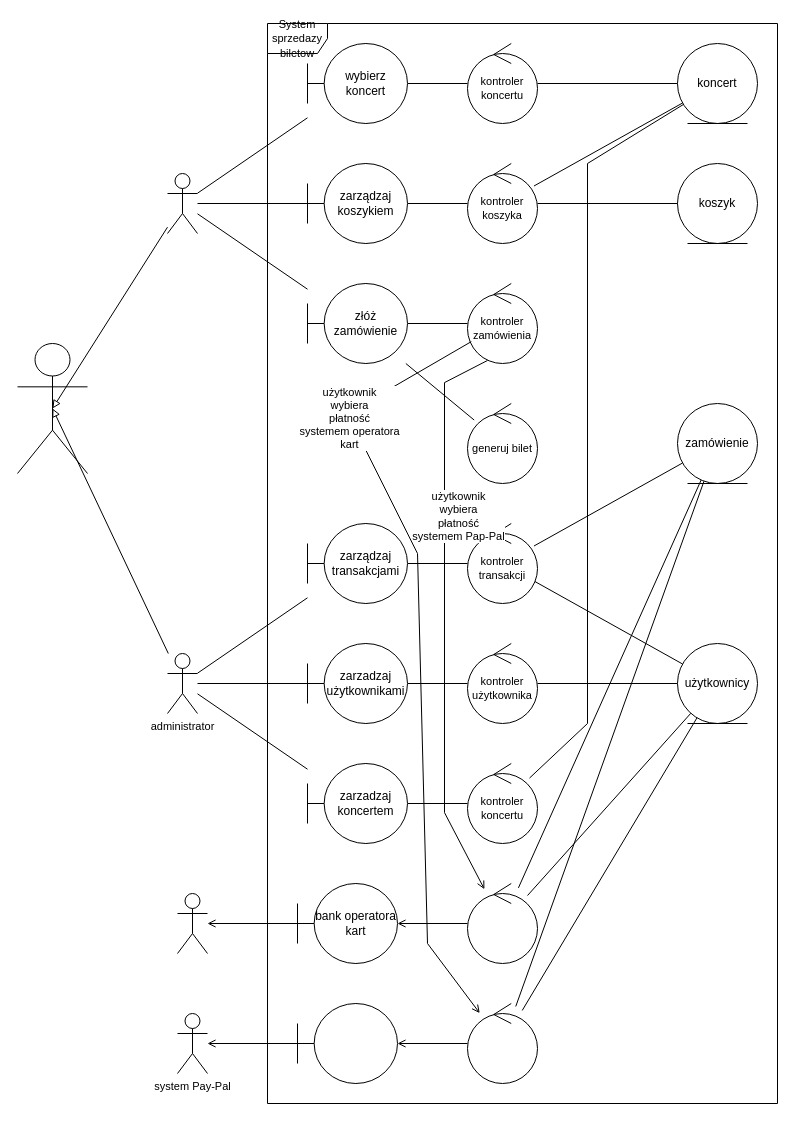
Some shapes in this 795 by 1121 pixel diagram are drawn without their labels. Here are the shapes that lost their labels. From the top down, the centre of each, then its label:
At [182,203]: "klient".
At [52,408]: "użytkownik".
At [192,923]: "system operatora kart".
At [502,923]: "kontroler operatora kart".
At [347,1043]: "bank Pay-Pal".
At [502,1043]: "kontroler Pay-Pal".
